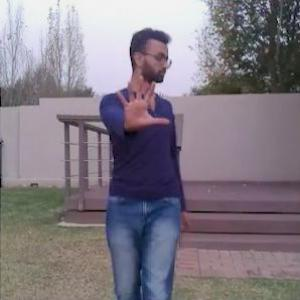follow_hand: (112, 72, 171, 135)
